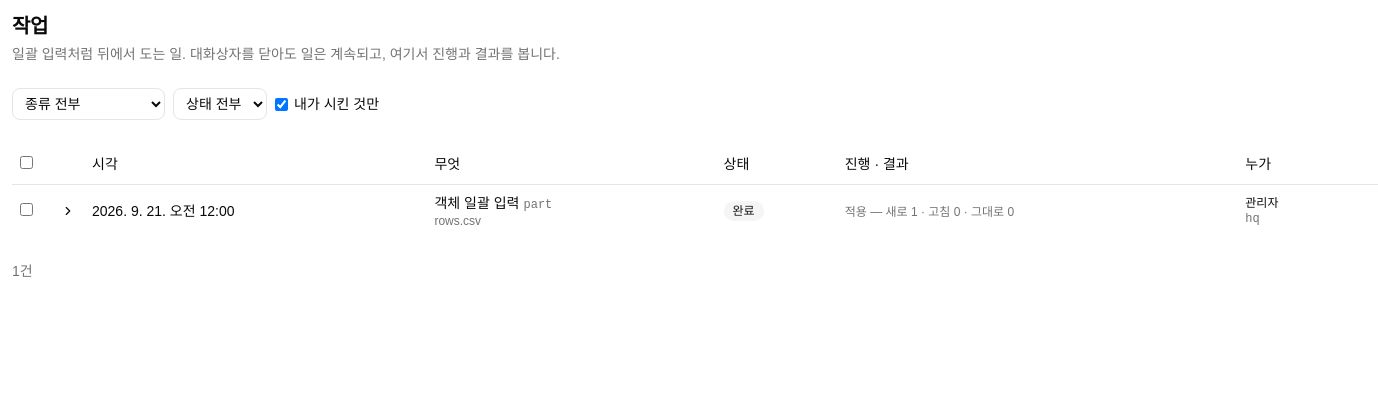
Test case: 작업 화면 › 이미 적용한 작업은 또 적용하지 않는다
This screenshot has width=1378, height=413.
Click the button named "펼치기": (68, 210) 52,198 -> 84,222
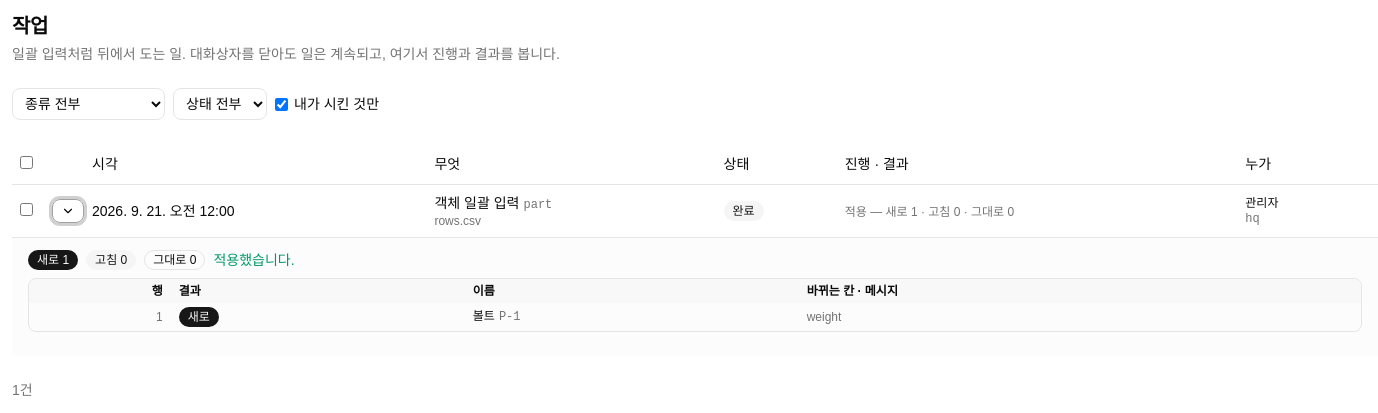
Check: the text "적용했습니다." is shown, box 213,250 -> 295,270
